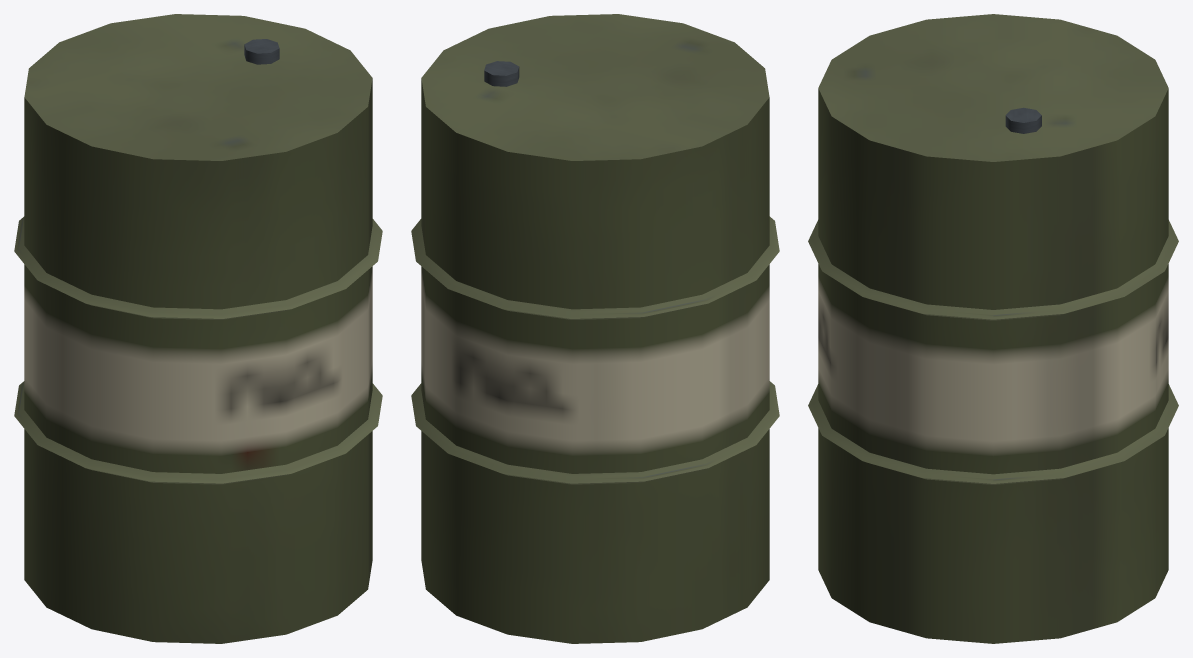
File: drum_lc.obj
3 views of the same model, side by side, from view 1: azimuth 30°, elevation 25°; view 2: azimuth 150°, elevation 25°; view 3: azimuth 270°, elevation 25° (orthographic).
Visible parts, largest first — view 1: drum_lc; view 2: drum_lc; view 3: drum_lc.
Boxes of the visible parts, <box> form: drum_lc: <box>14,14,382,643</box>; drum_lc: <box>411,14,779,643</box>; drum_lc: <box>808,14,1178,643</box>.
Bounding box in the file's own units: 0.614 × 0.9 × 0.614.
Materials: 1 (1 with a texture image).
